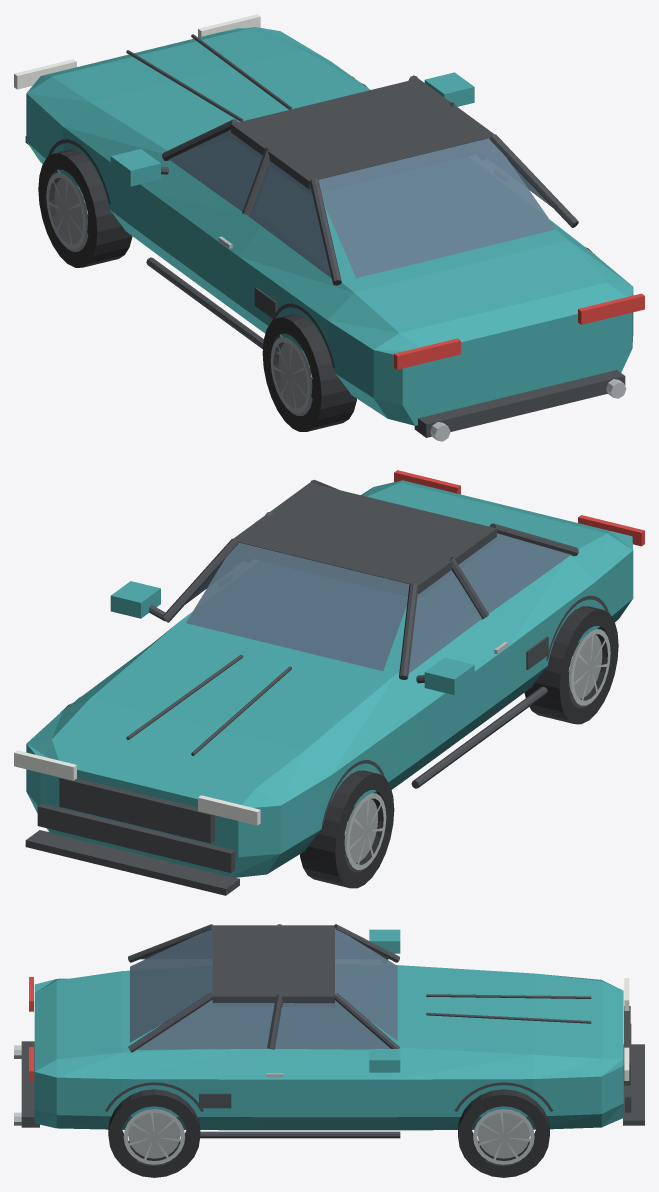
Rendered from vela_gt.gltf.
3 views of the same model, one above another, from view 1: azimuth 30°, elevation 25°; view 2: azimuth 150°, elevation 25°; view 3: azimuth 270°, elevation 25° (orthographic). The views are drawn at different scales.
Parts seen in each view (by area): view 1: Body_Shell, Backlight, Roof_Frame, Tire_RL, Tire_FL, Quarter_Glass_L, Rear_Diffuser, Door_Glass_L, Mirror_Cap_L, Side_Sill_L, Brake_RL, Brake_FL (+11 smaller); view 2: Body_Shell, Windshield, Roof_Frame, Tire_FL, Tire_RL, Front_Grille, Lower_Intake, Quarter_Glass_L, Splitter, Door_Glass_L, Side_Sill_L, Mirror_Cap_L (+12 smaller); view 3: Body_Shell, Roof_Frame, Backlight, Quarter_Glass_R, Windshield, Door_Glass_R, Tire_RR, Tire_FR, Brake_RR, Brake_FR, Side_Sill_R, Splitter (+16 smaller).
Part boxes in pixels (box(x1,y1,x2,y2)): Body_Shell: box(26, 27, 633, 425); Backlight: box(318, 138, 556, 277); Roof_Frame: box(231, 78, 493, 189); Tire_RL: box(262, 314, 356, 431); Tire_FL: box(38, 150, 132, 267); Quarter_Glass_L: box(248, 161, 331, 278); Rear_Diffuser: box(414, 370, 625, 437); Door_Glass_L: box(169, 130, 262, 211); Mirror_Cap_L: box(110, 149, 160, 186); Side_Sill_L: box(146, 257, 279, 360); Brake_RL: box(278, 342, 312, 406); Brake_FL: box(54, 178, 87, 242); Body_Shell: box(26, 480, 633, 877); Windshield: box(186, 542, 409, 671); Roof_Frame: box(233, 483, 496, 594); Tire_FL: box(300, 770, 394, 888); Tire_RL: box(524, 606, 618, 724); Front_Grille: box(59, 777, 214, 843); Lower_Intake: box(37, 803, 235, 872); Quarter_Glass_L: box(459, 533, 570, 613); Splitter: box(25, 830, 239, 895); Door_Glass_L: box(408, 570, 481, 673); Side_Sill_L: box(411, 686, 547, 788); Mirror_Cap_L: box(424, 657, 474, 695); Body_Shell: box(34, 965, 623, 1130); Roof_Frame: box(212, 925, 334, 1006); Backlight: box(130, 928, 212, 1042); Quarter_Glass_R: box(136, 1000, 274, 1049); Windshield: box(335, 928, 397, 1040); Door_Glass_R: box(275, 1000, 390, 1049); Tire_RR: box(108, 1089, 200, 1177); Tire_FR: box(458, 1089, 549, 1177); Brake_RR: box(128, 1112, 180, 1158); Brake_FR: box(477, 1113, 529, 1158); Side_Sill_R: box(200, 1131, 400, 1138); Splitter: box(623, 1044, 644, 1125).
Bounding box in the file's own units: 2.39 × 1.39 × 4.88.
